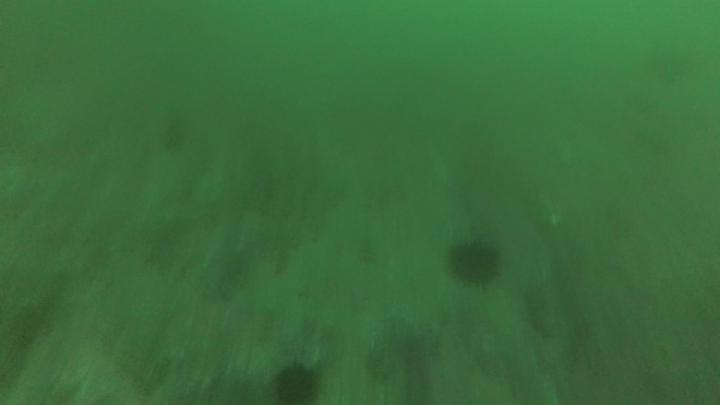echinus: (441, 233, 513, 293), (270, 355, 321, 405)
